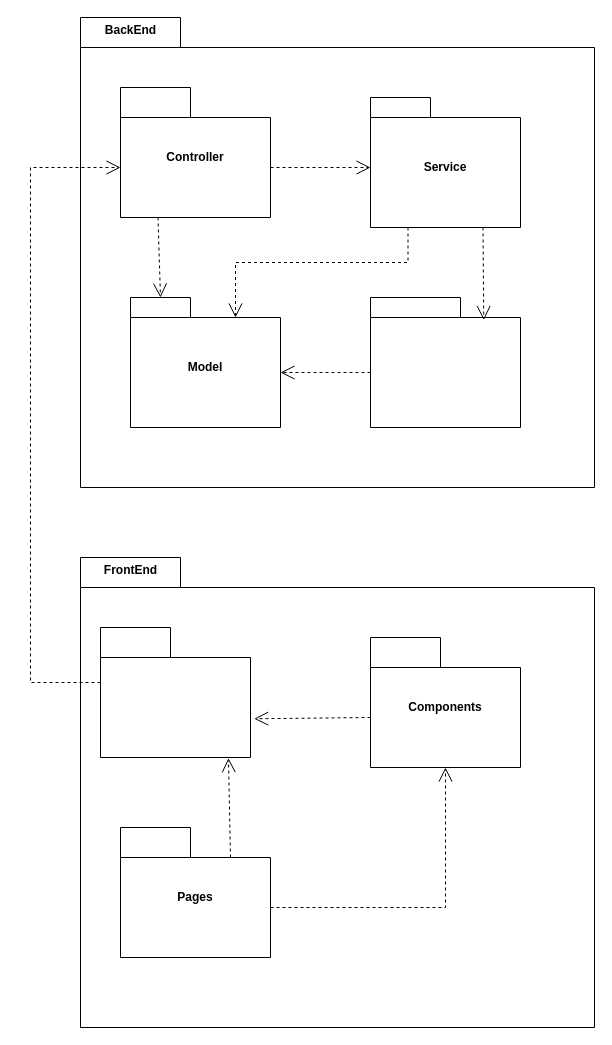
Image size: 612x1045. Some labels were removed from this diagram. Here are the shapes that lost their labels. From the top down, the box of each, then its label:
(370, 296, 520, 428): Repository
(100, 626, 250, 758): Services
